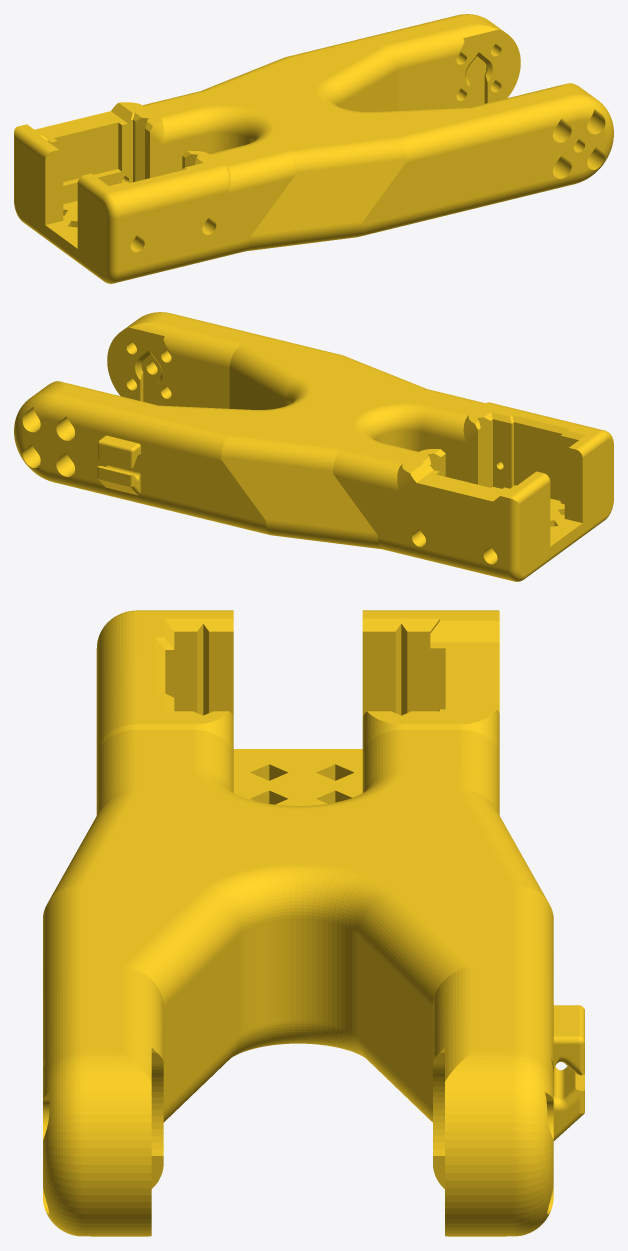
Rendered from upper_arm_so101_v1.glb.
3 renders of one model, top to bottom at view 1: azimuth 30°, elevation 25°; view 2: azimuth 150°, elevation 25°; view 3: azimuth 270°, elevation 25°, orthographic. The views are drawn at different scales.
Visible parts, largest first — view 1: upper_arm_so101_v1; view 2: upper_arm_so101_v1; view 3: upper_arm_so101_v1.
Part boxes in pixels (x1=…): upper_arm_so101_v1: x1=14, y1=14, x2=613, y2=283; upper_arm_so101_v1: x1=14, y1=312, x2=613, y2=581; upper_arm_so101_v1: x1=43, y1=610, x2=584, y2=1236.
Bounding box in the file's own units: 0.1422 × 0.0245 × 0.0673.
